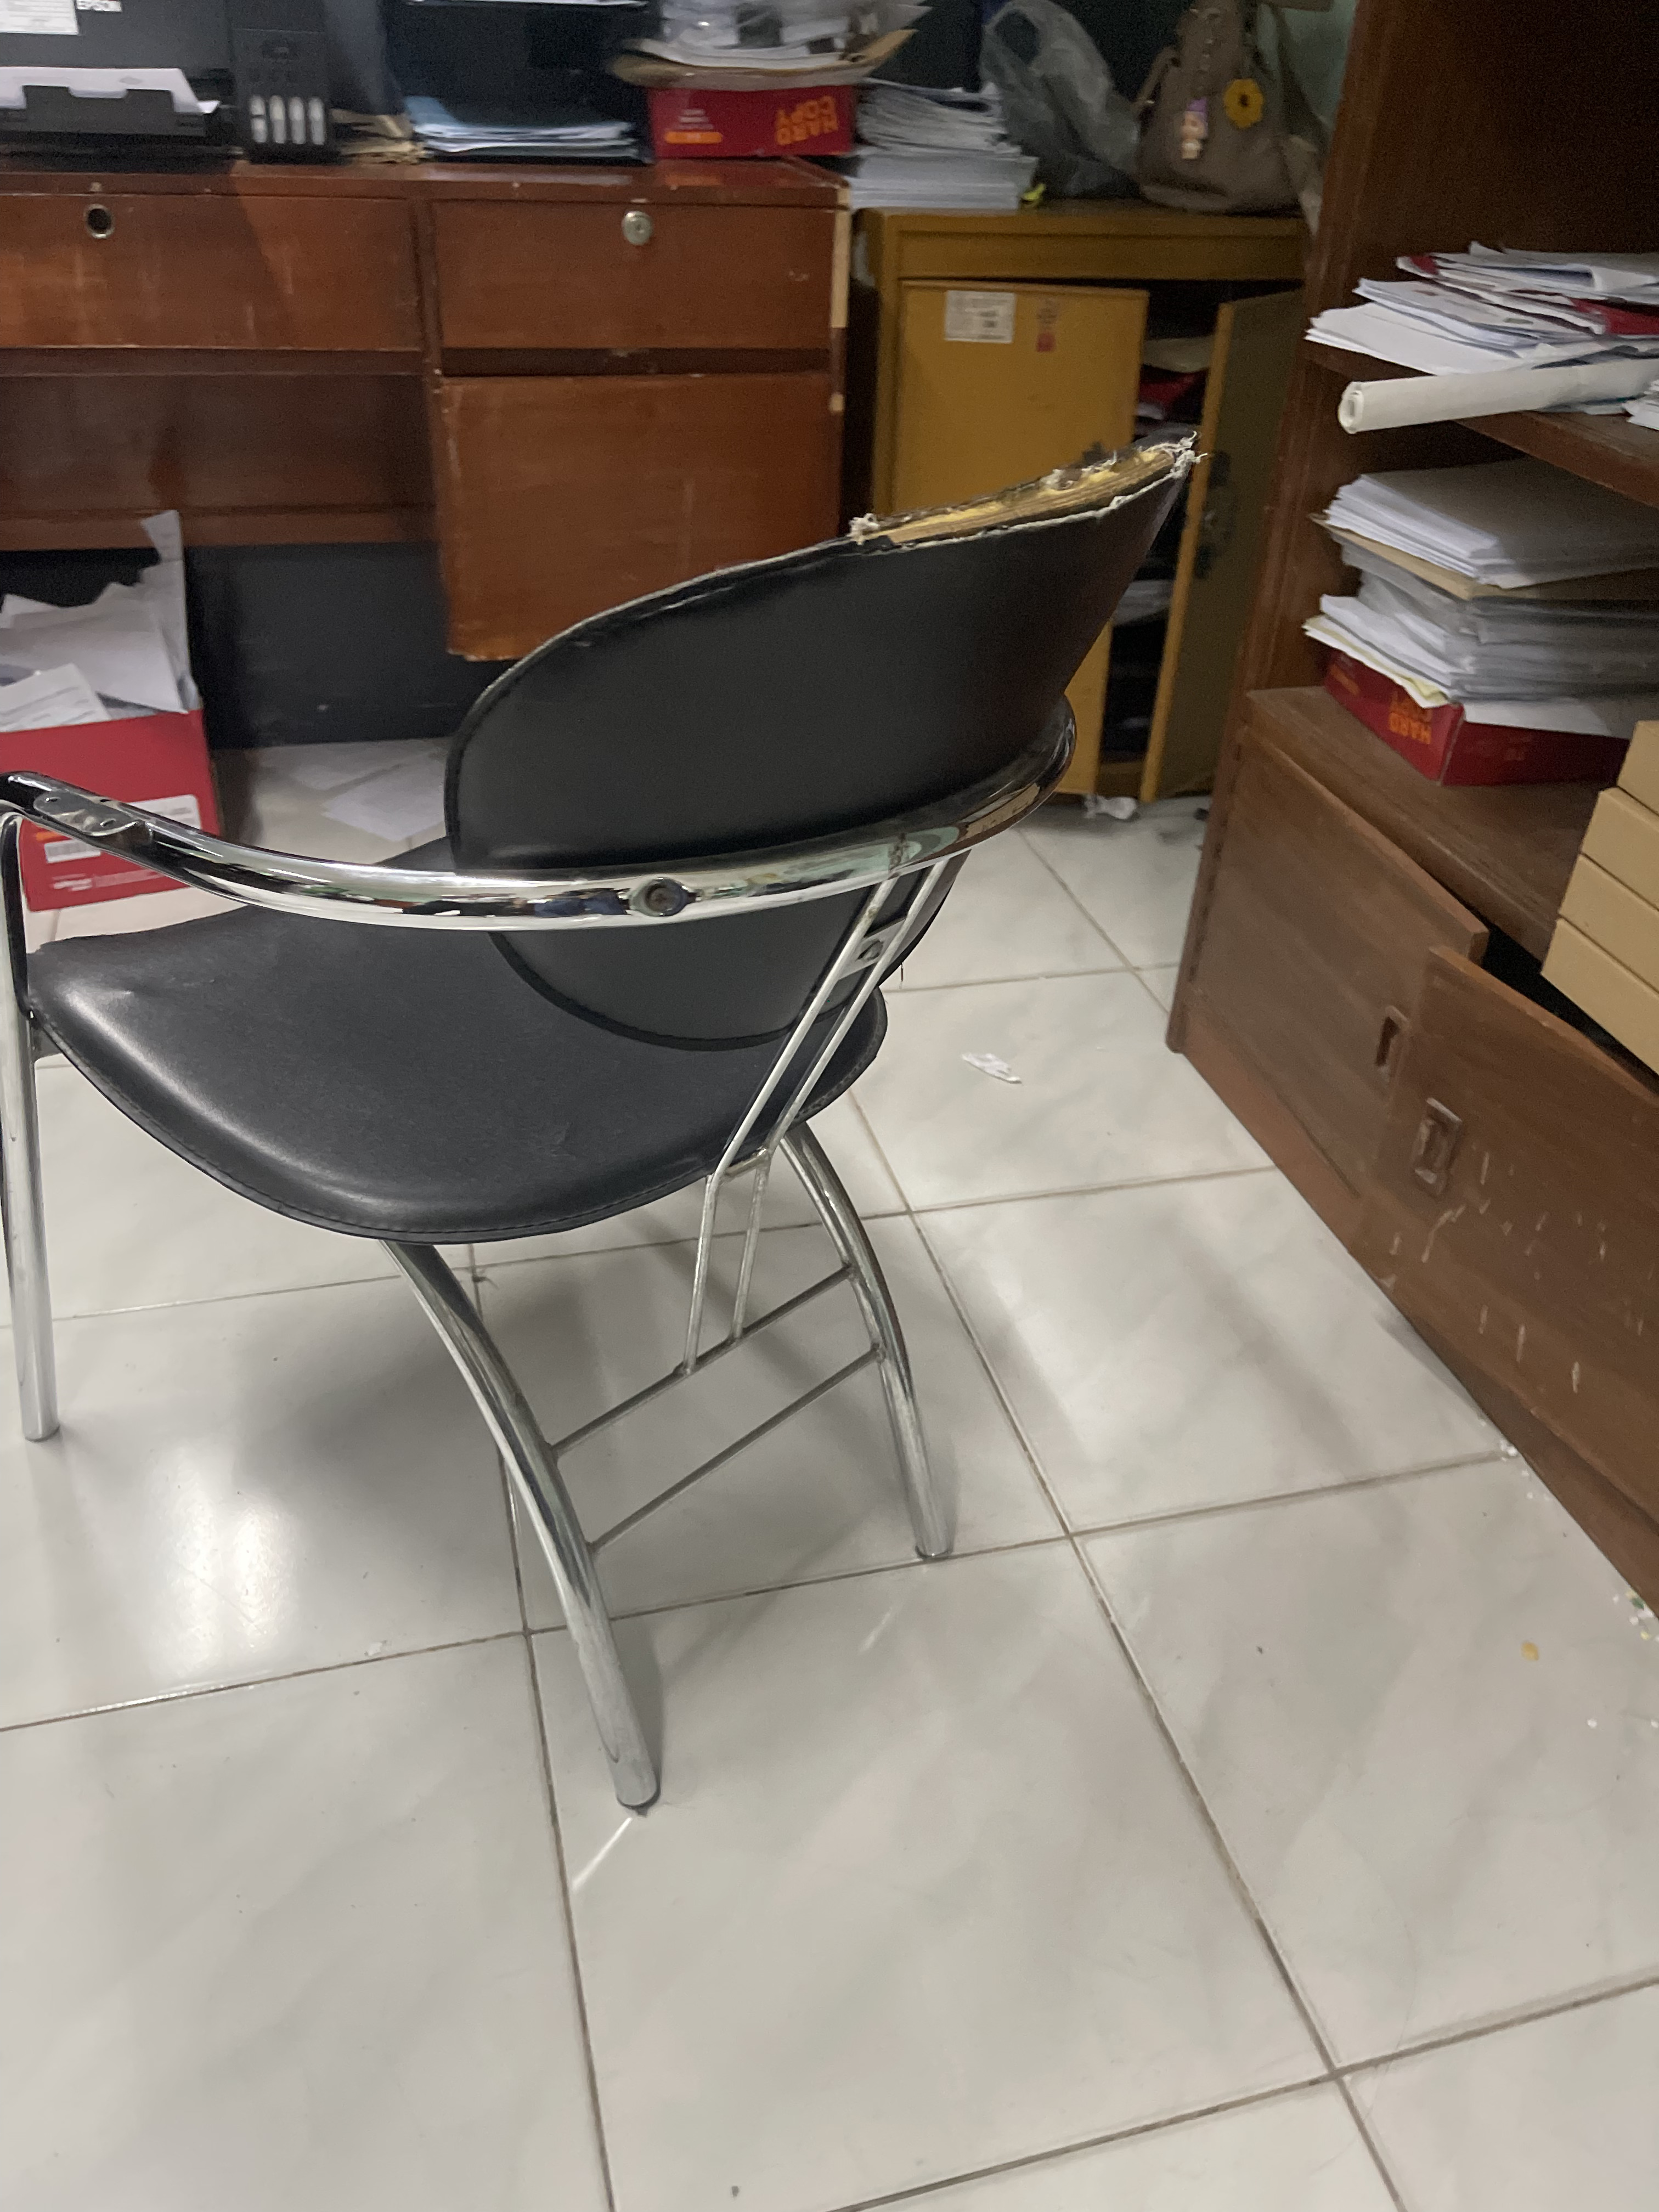chair1: (2, 432, 1216, 1834)
